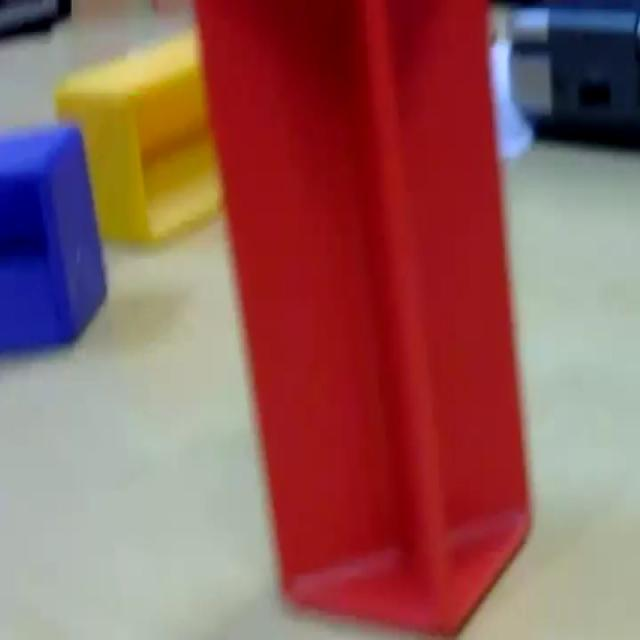blue_block: (0, 120, 107, 354)
red_block: (192, 0, 534, 635)
yellow_block: (53, 25, 223, 244)
